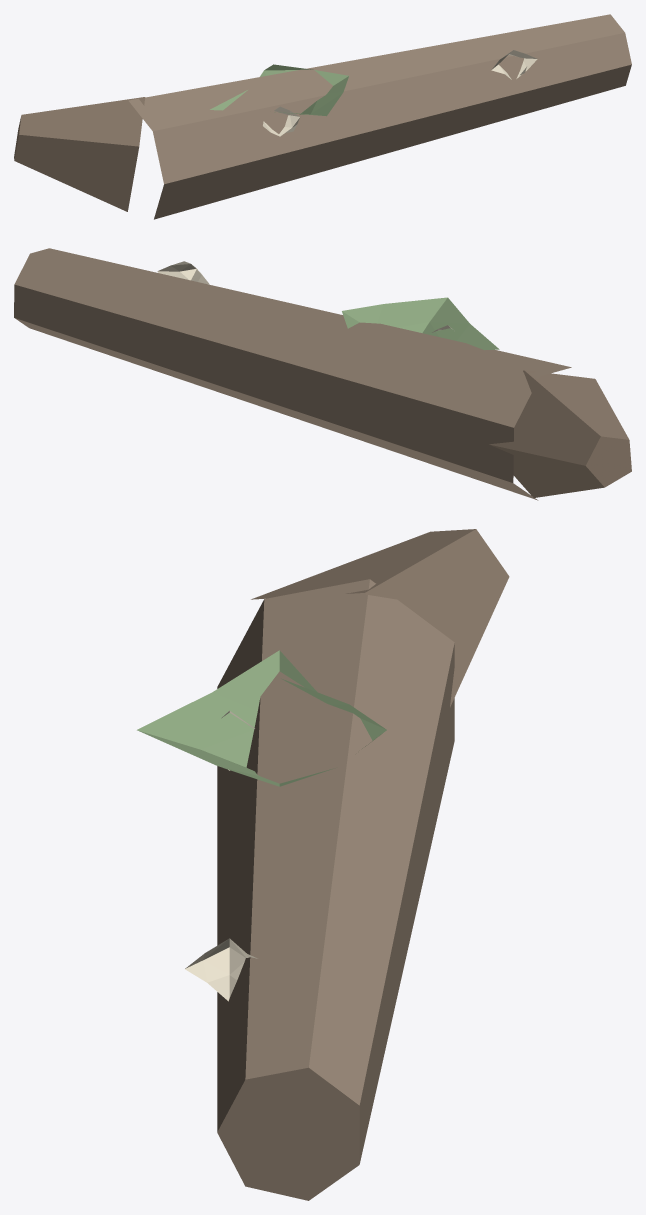
Rendered from log_v27.glb.
The picture shows the model from 3 angles, top to bottom: view 1: azimuth 30°, elevation 25°; view 2: azimuth 150°, elevation 25°; view 3: azimuth 270°, elevation 25°; orthographic projection. The views are drawn at different scales.
Parts seen in each view (by area): view 1: lod0; view 2: lod0; view 3: lod0.
Part boxes in pixels (left/top/right/bottom): lod0: left=14, top=14, right=631, bottom=219; lod0: left=14, top=248, right=631, bottom=500; lod0: left=137, top=529, right=509, bottom=1200.
Size of what is drawn, in the model's own units: 3.35 by 0.7014 by 0.955.
